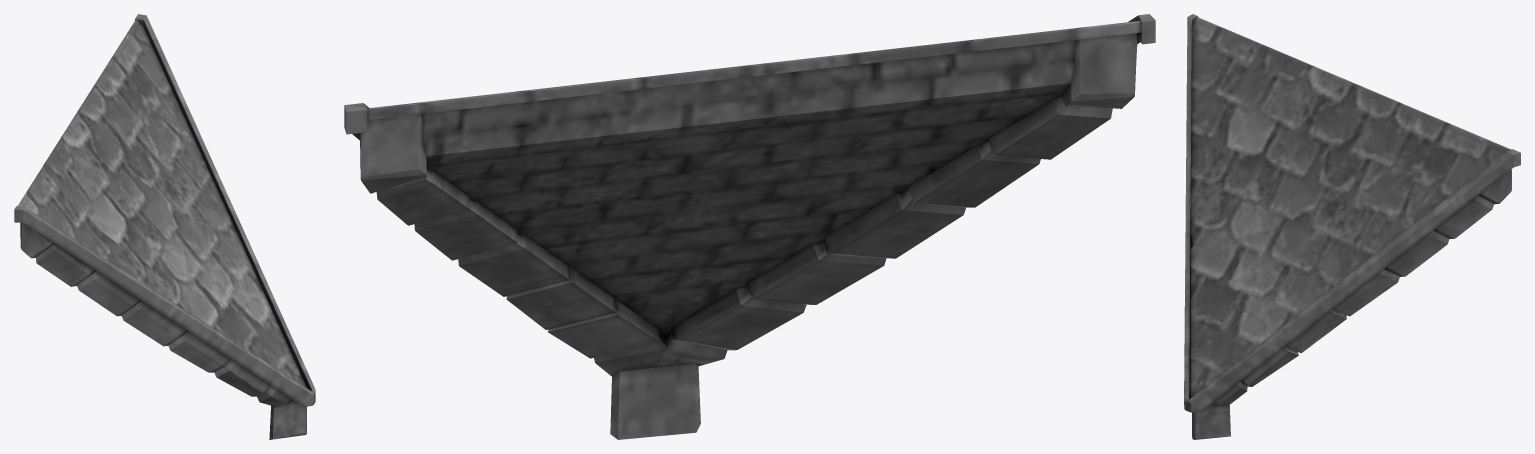
File: SM_SlopedRoofCornerReverse_Stone_1613e5.glb
3 renders of one model, left to right at view 1: azimuth 30°, elevation 25°; view 2: azimuth 150°, elevation 25°; view 3: azimuth 270°, elevation 25°, orthographic. The views are drawn at different scales.
Size of the model in its own units: 4.1 by 3.85 by 4.1.
Materials: 1 (1 with a texture image).
